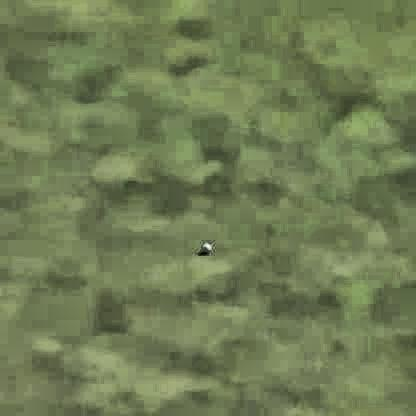golfball: (200, 243, 213, 253)
